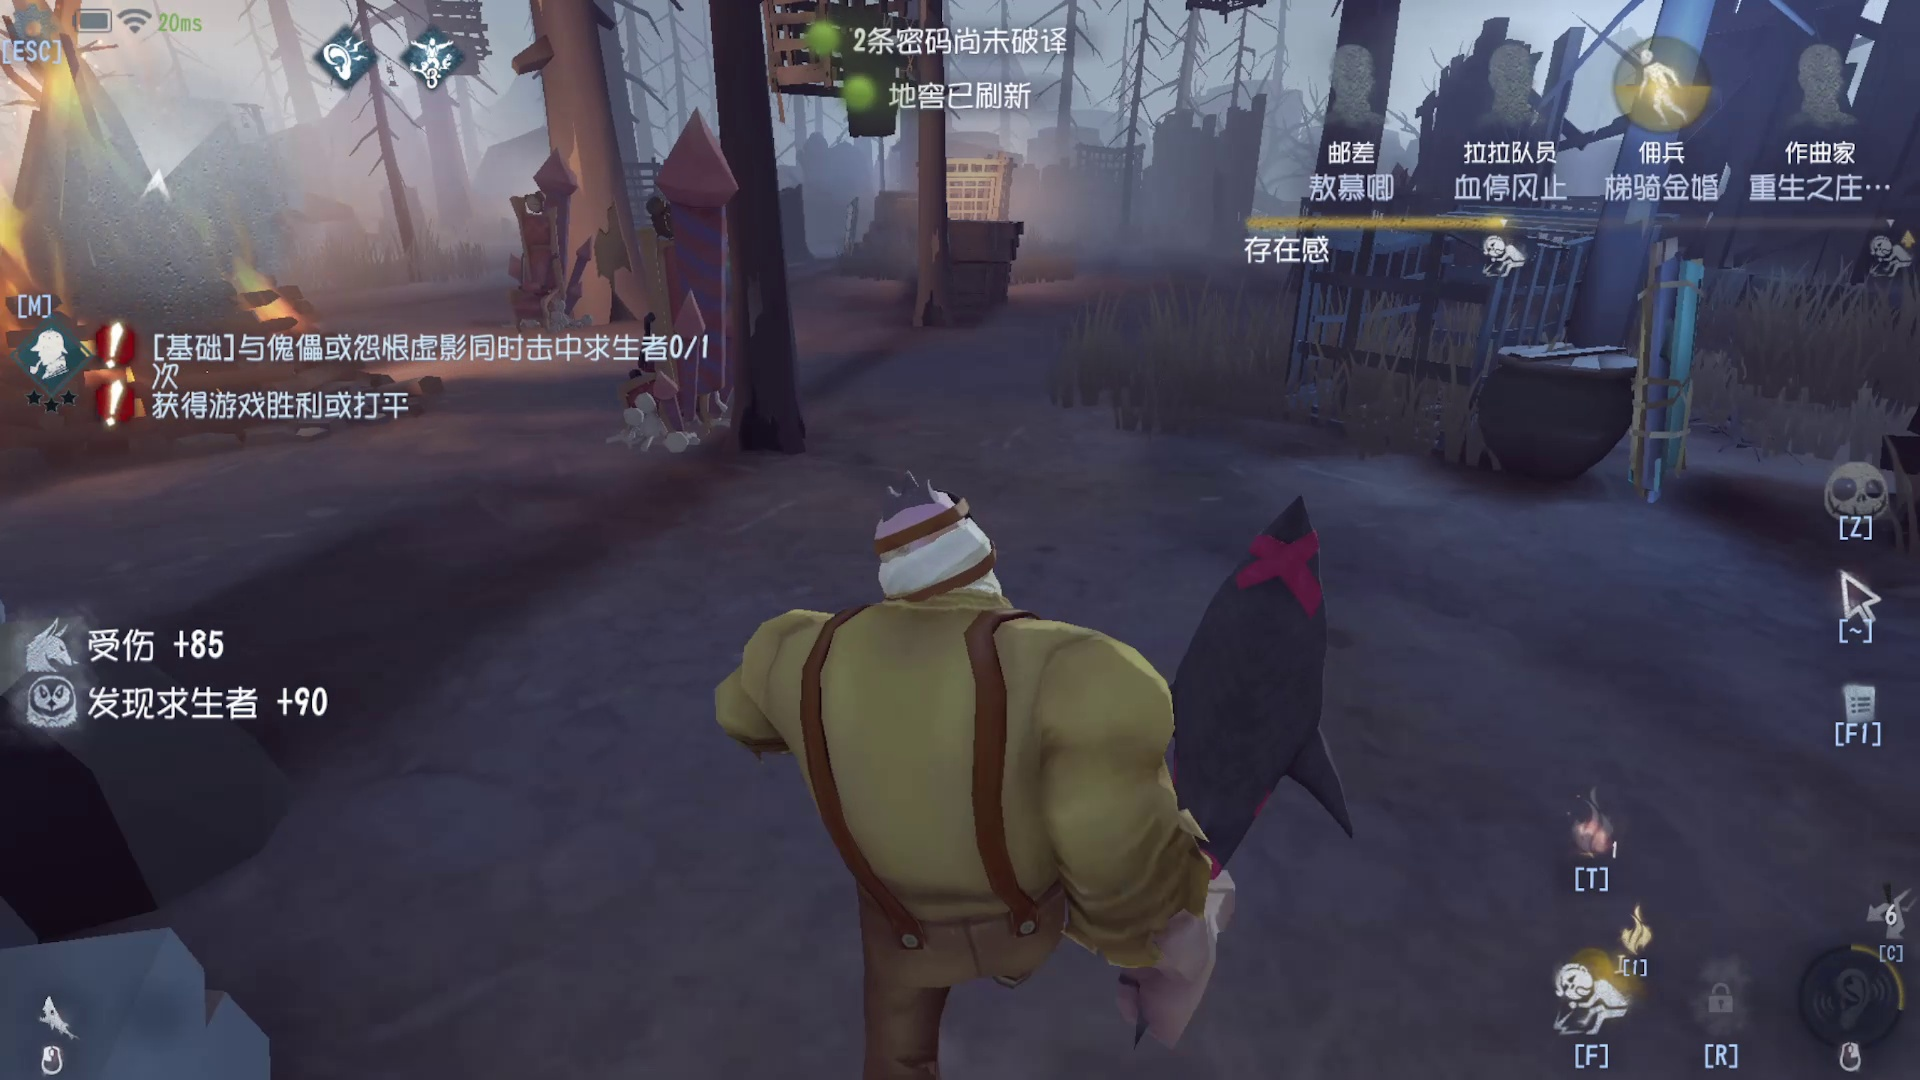木板: (1640, 233, 1731, 514)
狂欢之椅: (605, 166, 752, 473), (491, 149, 589, 332)
